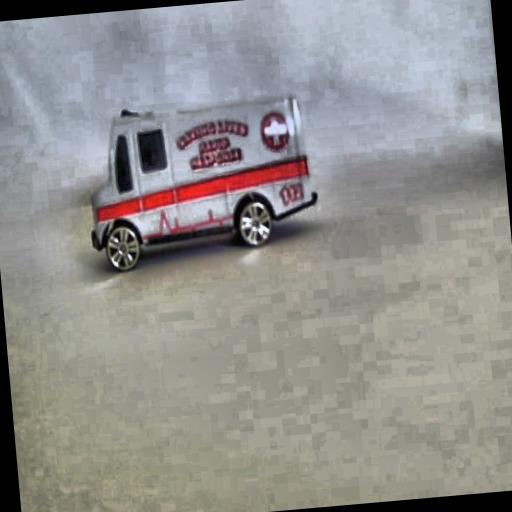ambulance: (80, 92, 322, 274)
